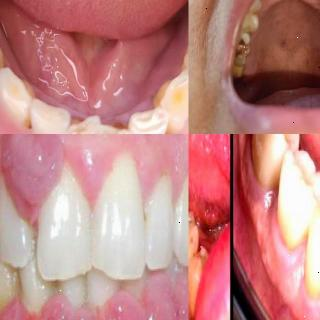Gum Swelling: (0, 134, 160, 226), (244, 134, 320, 319)
calculus: (149, 161, 179, 192), (0, 284, 19, 320)
cavities: (189, 204, 199, 276), (230, 40, 252, 56)
plaque: (16, 287, 58, 320)
